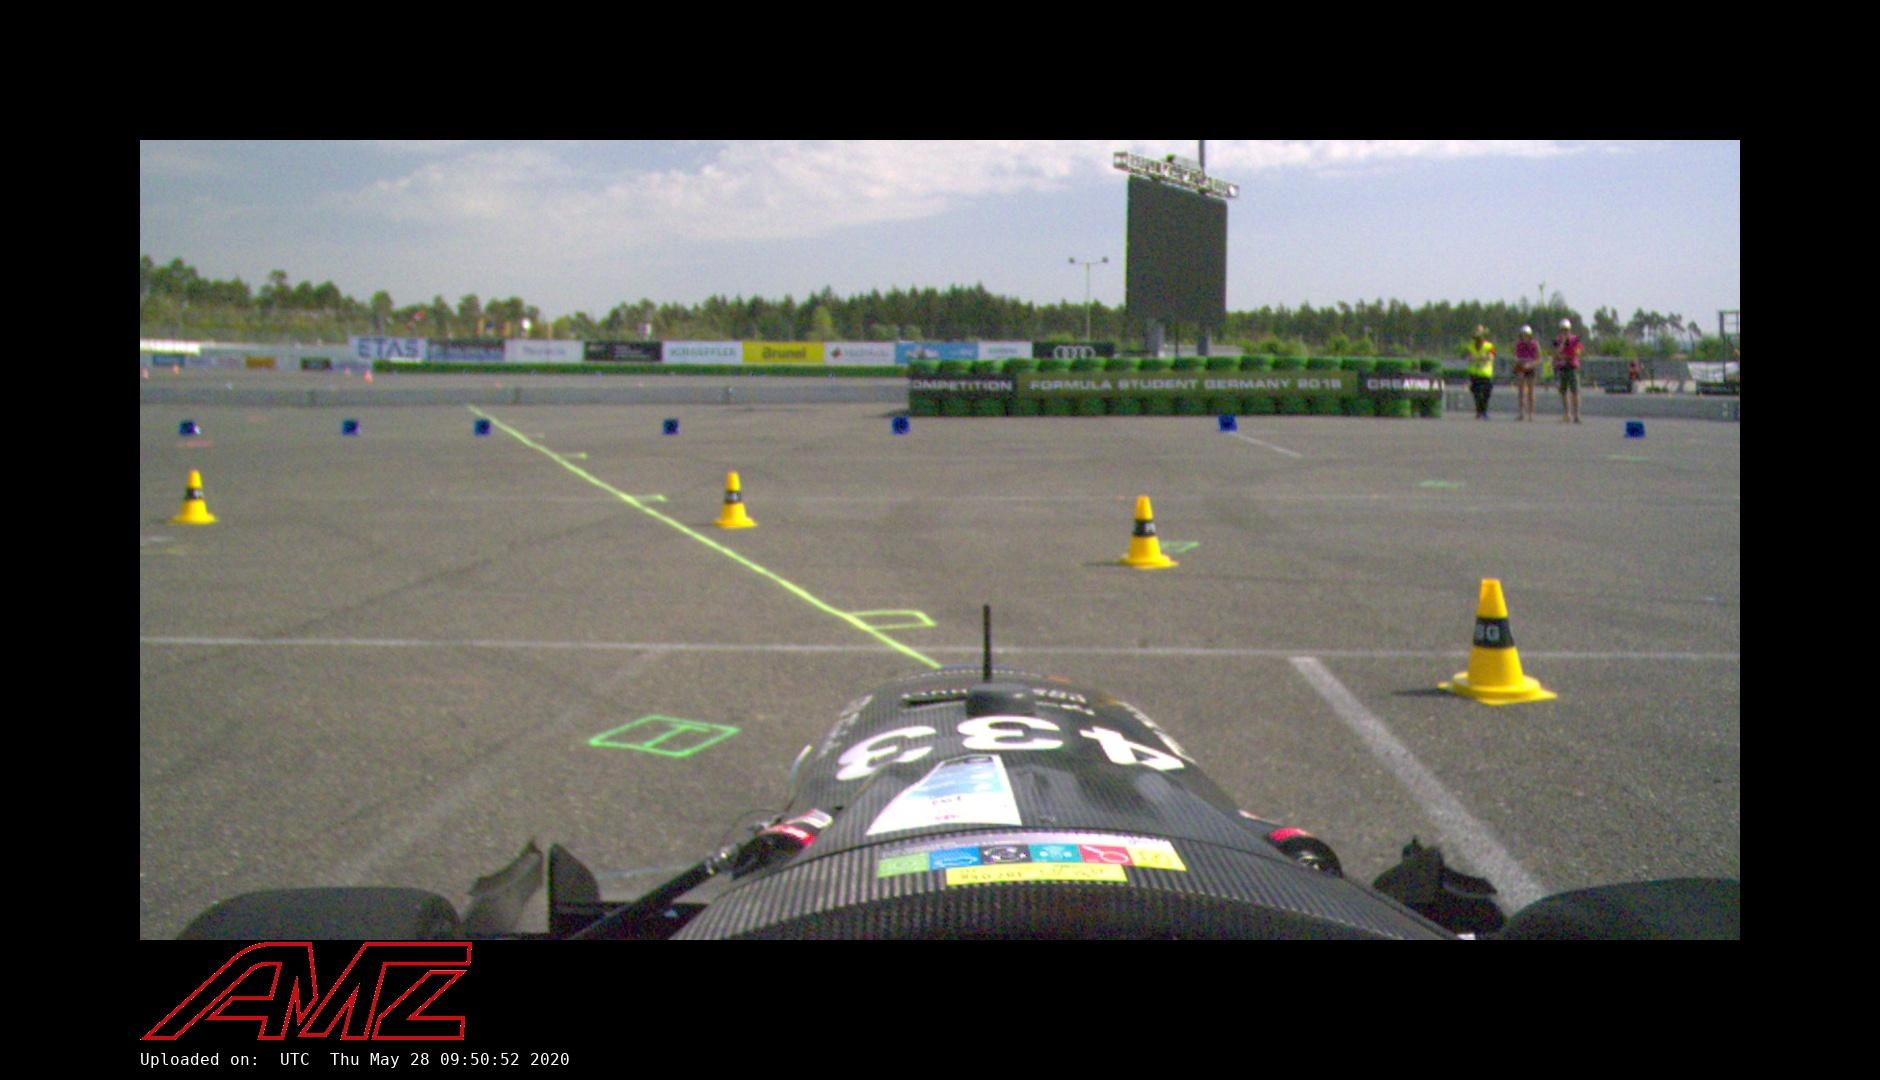yellow_cone: (1436, 577, 1558, 707), (1116, 493, 1179, 570), (168, 466, 220, 526), (708, 472, 757, 530)
